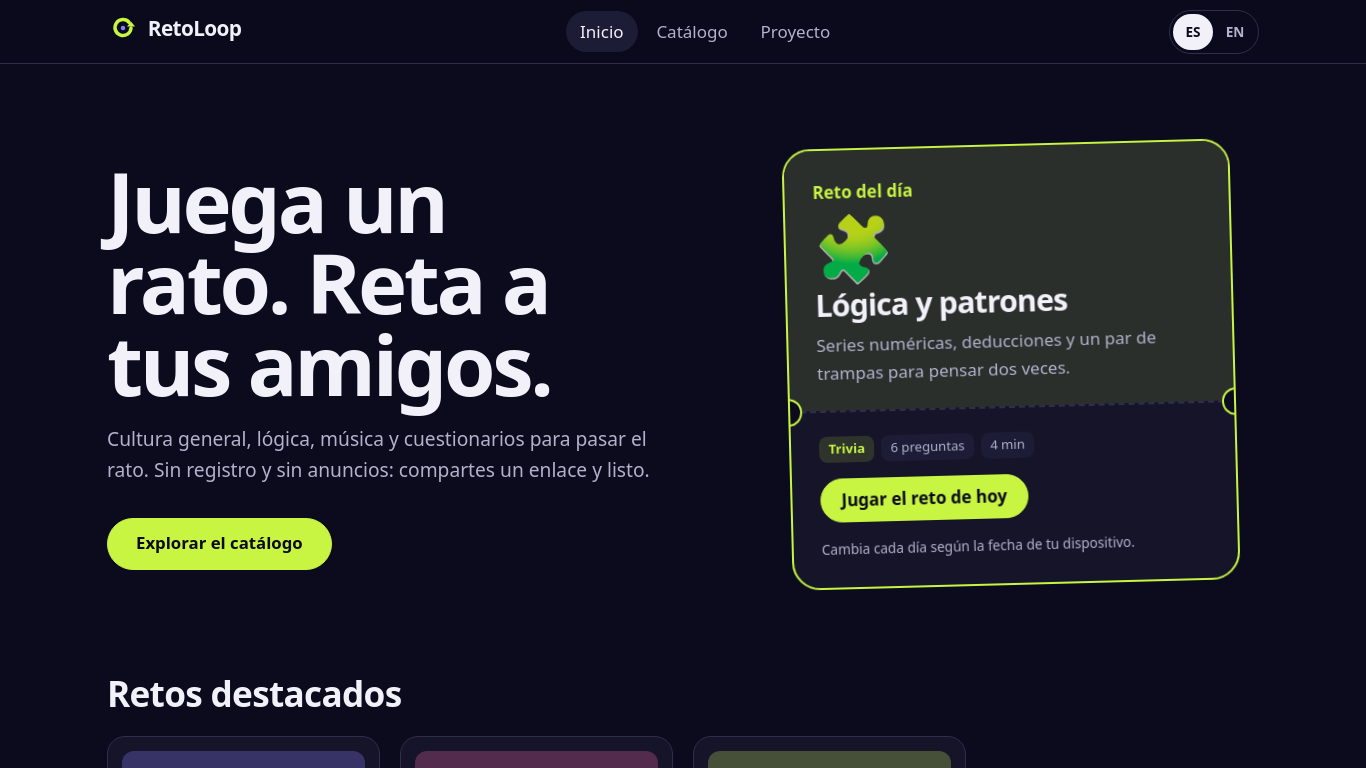
Test: idioma › cambia la interfaz a inglés y recuerda la elección
The width and height of the screenshot is (1366, 768).
Click the button with aria-label "English" at coordinates (1235, 32), box top-left (1215, 14), bottom-right (1255, 50)
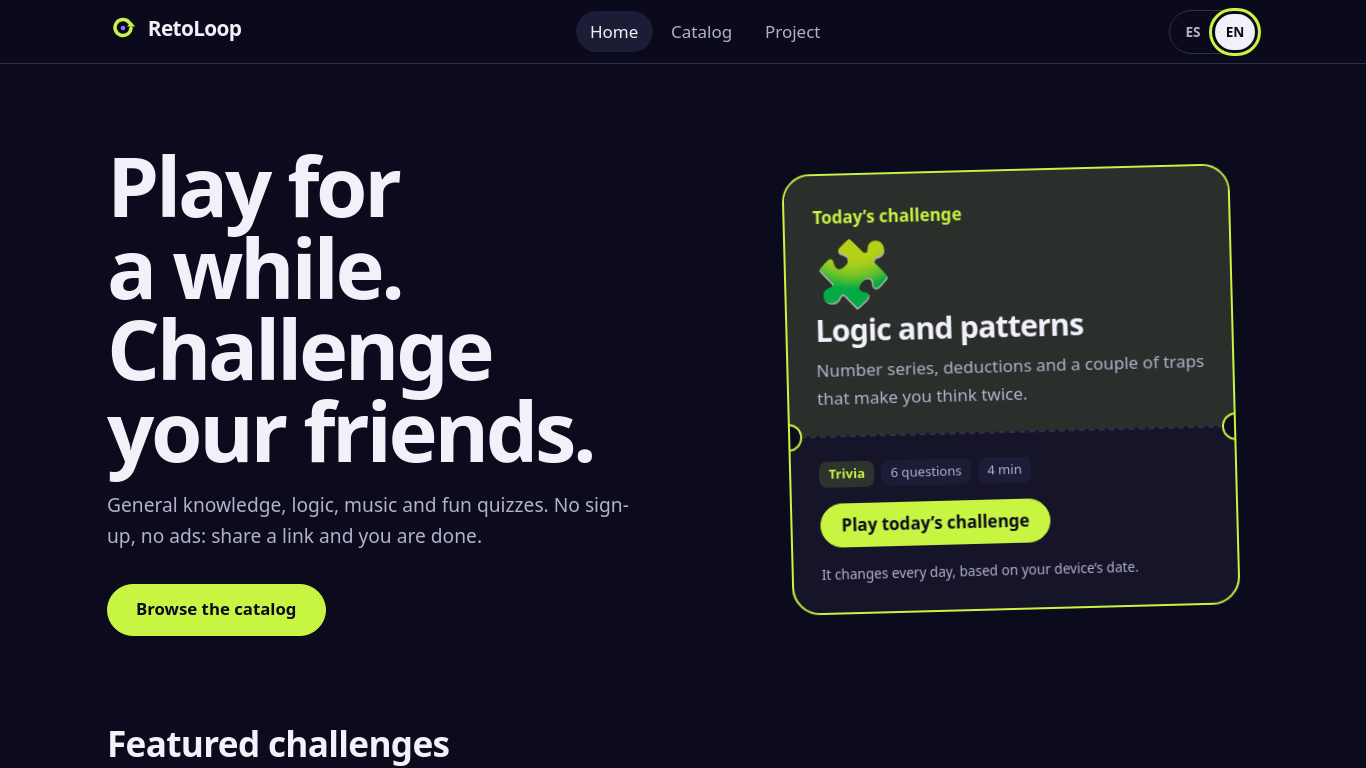
Check: the heading "Play for a while. Challenge your friends." is shown, box top-left (107, 144), bottom-right (678, 470)
Check: the link "Catalog" is shown, box top-left (671, 20), bottom-right (732, 43)
